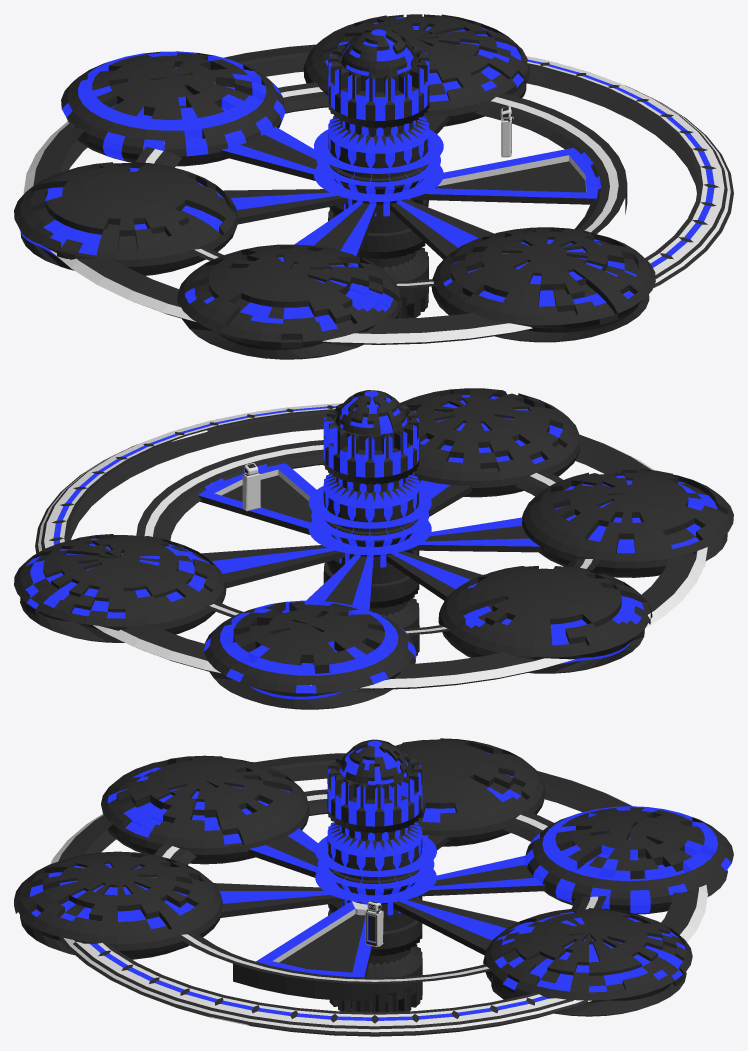
The model's file is spaceStation4.glb.
3 renders of one model, top to bottom at view 1: azimuth 30°, elevation 25°; view 2: azimuth 150°, elevation 25°; view 3: azimuth 270°, elevation 25°, orthographic. The views are drawn at different scales.
Parts seen in each view (by area): view 1: OuterRings, MainCenterRing, NavRobot; view 2: OuterRings, MainCenterRing, NavRobot; view 3: OuterRings, MainCenterRing, NavRobot.
Boxes of the visible parts, x1,y1,x2,y2 form: OuterRings: (14,14,733,359); MainCenterRing: (314,129,443,201); NavRobot: (500,106,513,157); OuterRings: (14,388,733,709); MainCenterRing: (308,486,431,555); NavRobot: (242,463,261,511); OuterRings: (14,738,733,1036); MainCenterRing: (315,835,436,903); NavRobot: (365,901,383,947).
Size of the model in its own units: 104 by 48.07 by 111.
